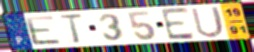3: (97, 13, 125, 43)
5: (125, 9, 158, 41)
E: (159, 6, 197, 42), (23, 14, 65, 46)
T: (57, 13, 85, 45)
U: (190, 5, 227, 39)
